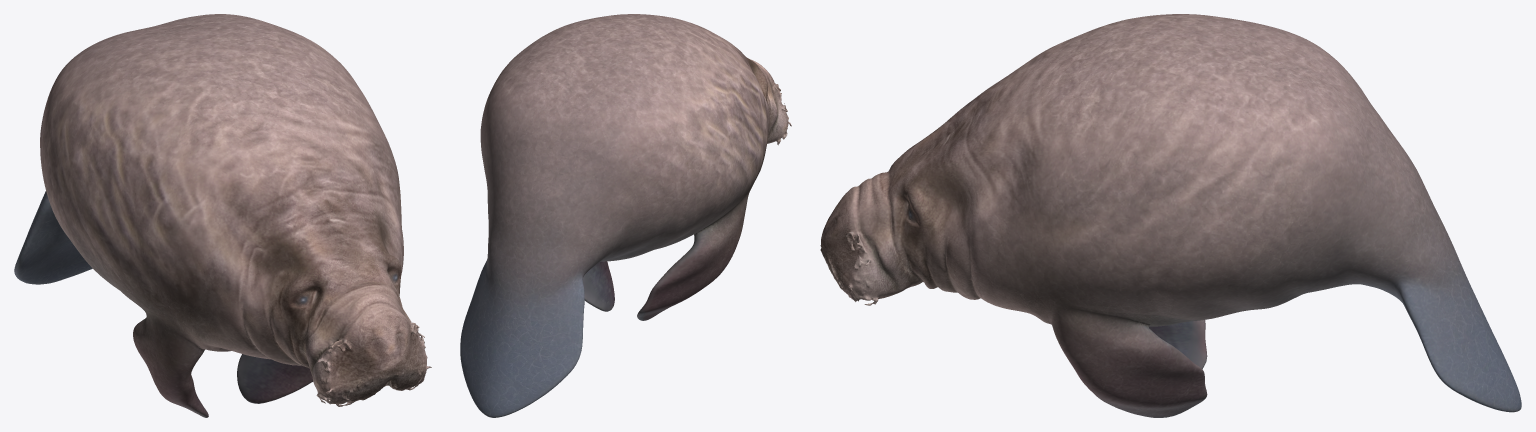
Rendered from Peixeboi.glb.
The picture shows the model from 3 angles, left to right: view 1: azimuth 30°, elevation 25°; view 2: azimuth 150°, elevation 25°; view 3: azimuth 270°, elevation 25°; orthographic projection. The views are drawn at different scales.
Bounding box in the file's own units: 0.9356 × 1.1 × 1.9.
1 material, 1 textured.
